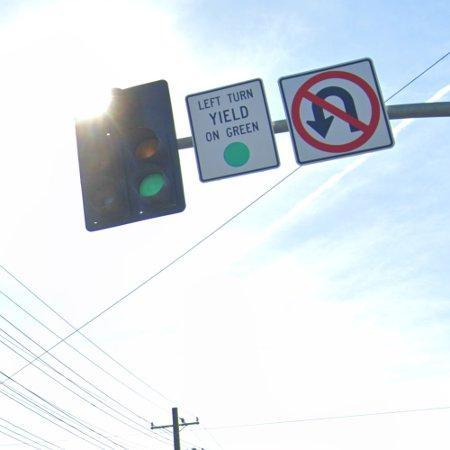traffic lights: (72, 78, 197, 235), (279, 63, 396, 168)
